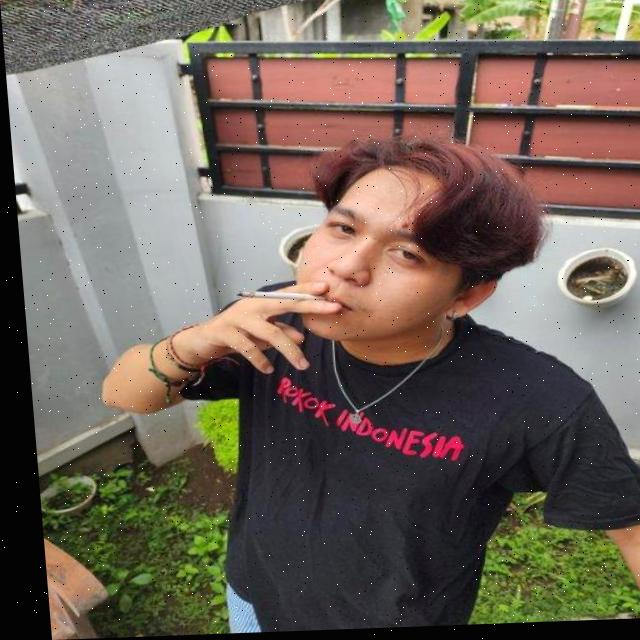cigarette: (233, 290, 320, 307)
